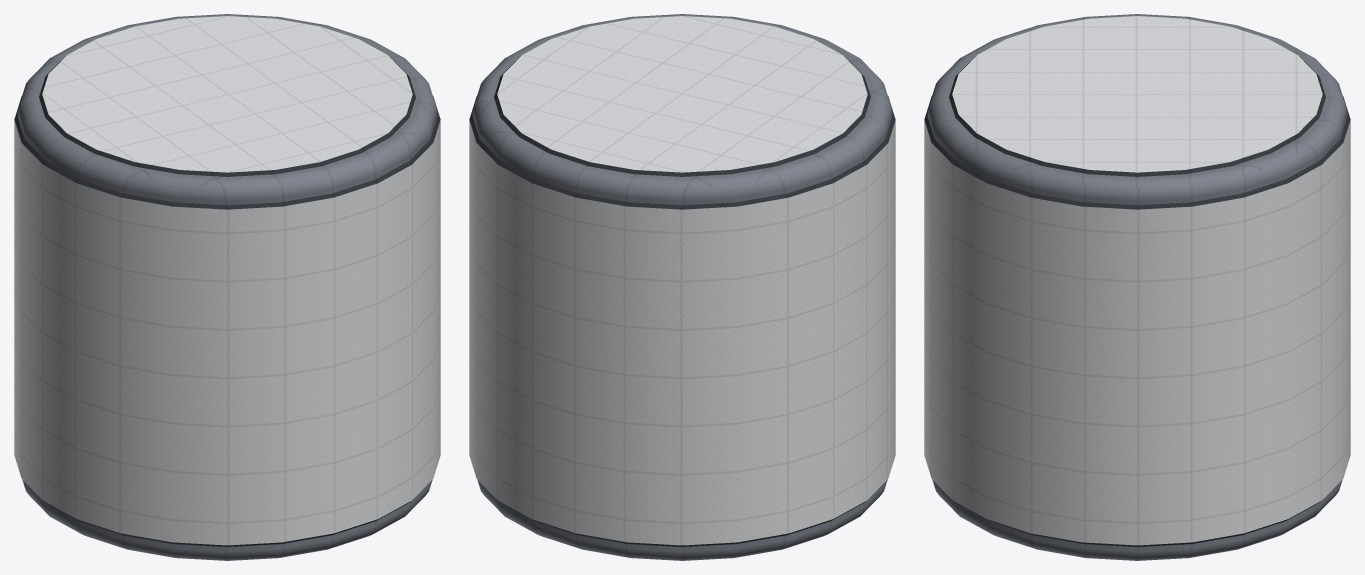
3 renders of one model, left to right at view 1: azimuth 30°, elevation 25°; view 2: azimuth 150°, elevation 25°; view 3: azimuth 270°, elevation 25°, orthographic.
Visible parts, largest first — view 1: R4B_Cylinder; view 2: R4B_Cylinder; view 3: R4B_Cylinder.
Boxes of the visible parts, x1=… form: R4B_Cylinder: x1=14, y1=14, x2=440, y2=560; R4B_Cylinder: x1=469, y1=14, x2=895, y2=560; R4B_Cylinder: x1=924, y1=14, x2=1350, y2=560.
Size of the model in its own units: 0.52 by 0.52 by 0.52.
Materials: 3 (3 with a texture image).
